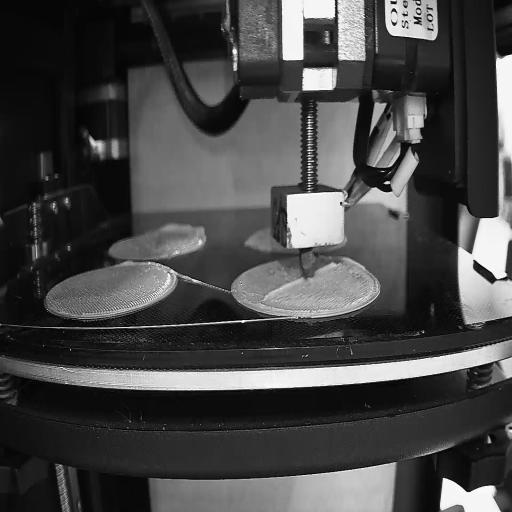over_extrusion: (263, 272, 304, 304), (161, 220, 210, 242), (315, 260, 336, 274), (118, 259, 138, 267)
